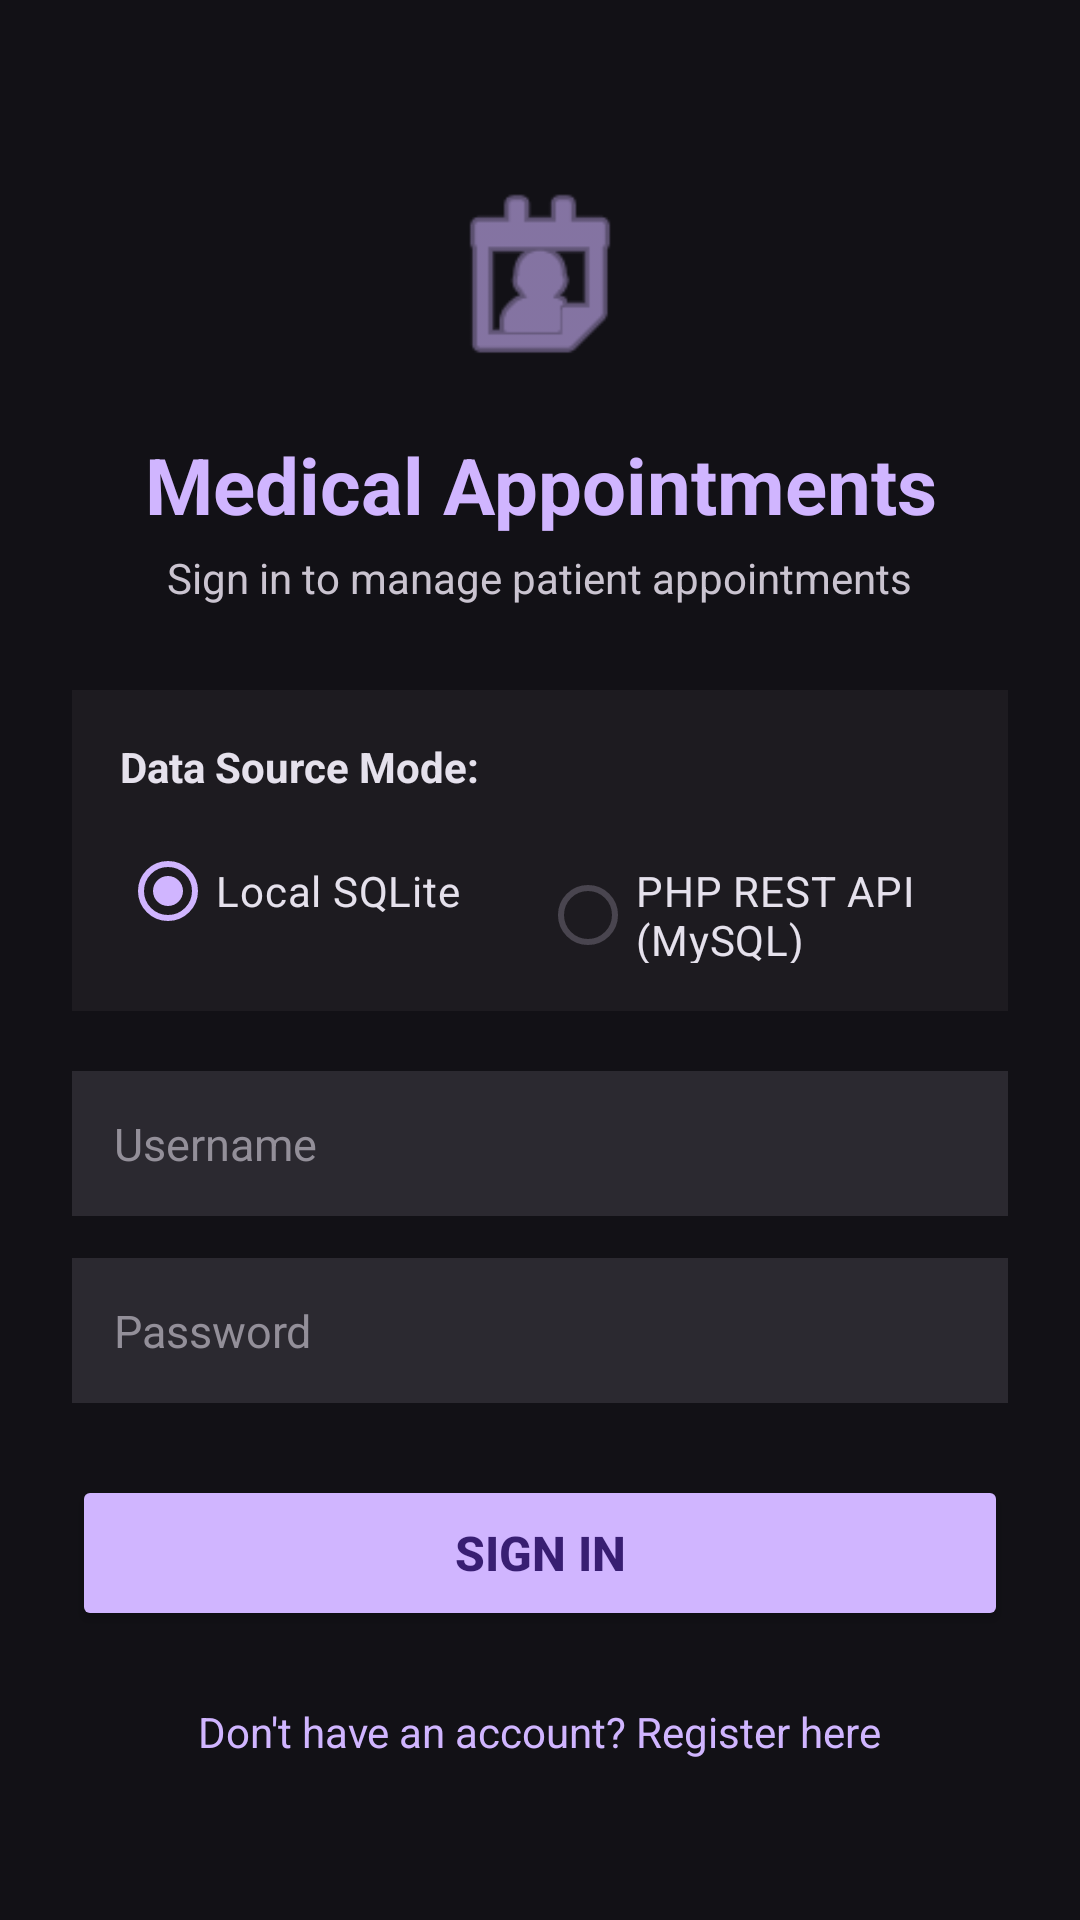

Icons on this 1080*1920 Android screen, each with the point to tap as point (x, y):
calendar: point (540, 274)
